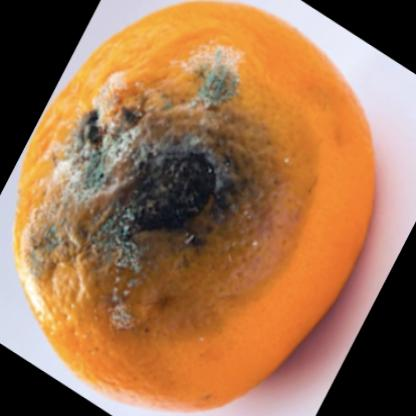rotten: (14, 1, 376, 407)
